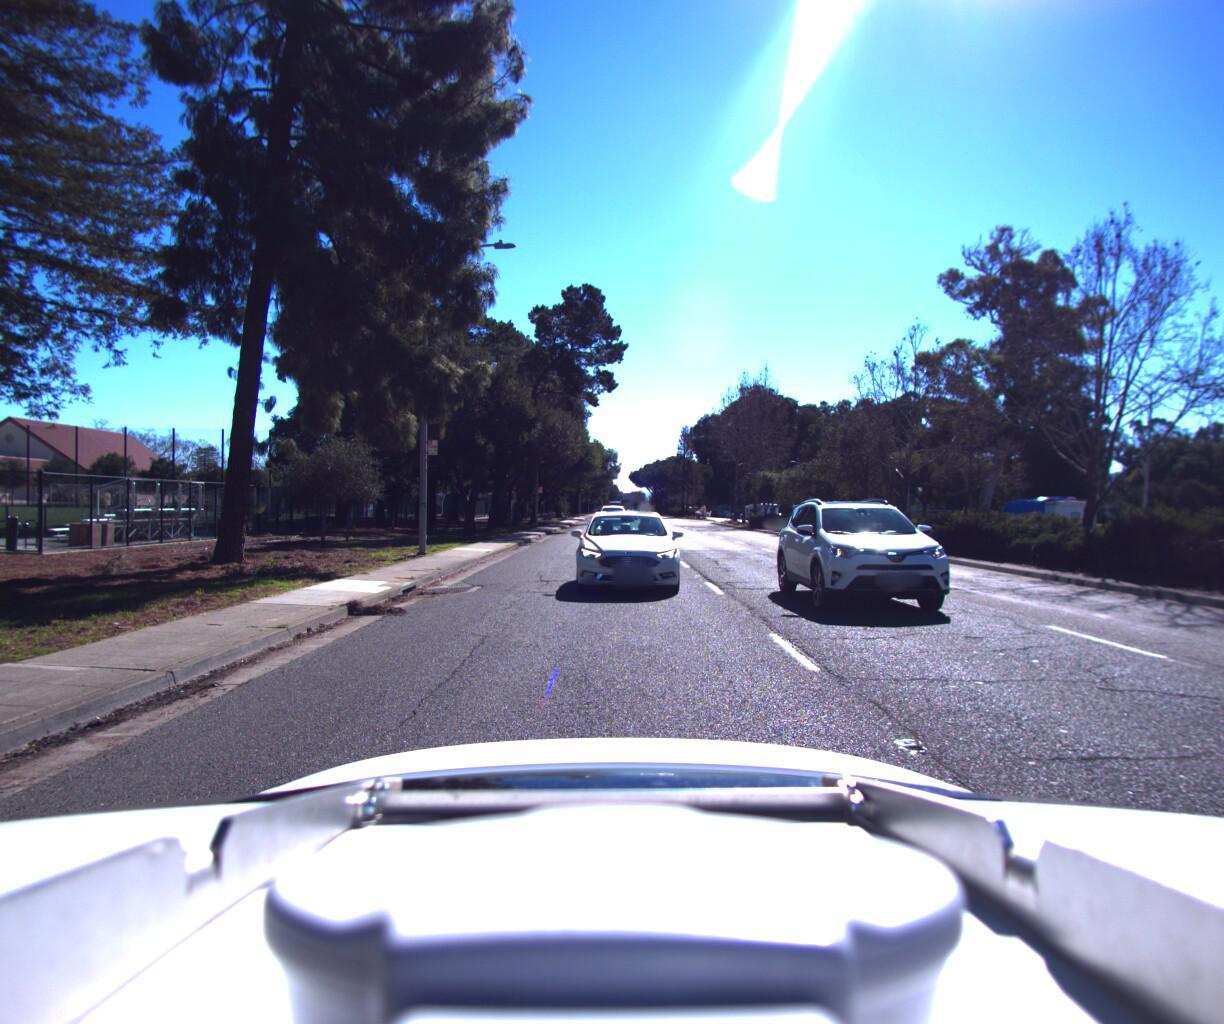car: (786, 485, 1023, 633), (567, 502, 691, 607)
other_vehicle: (994, 490, 1102, 549)
